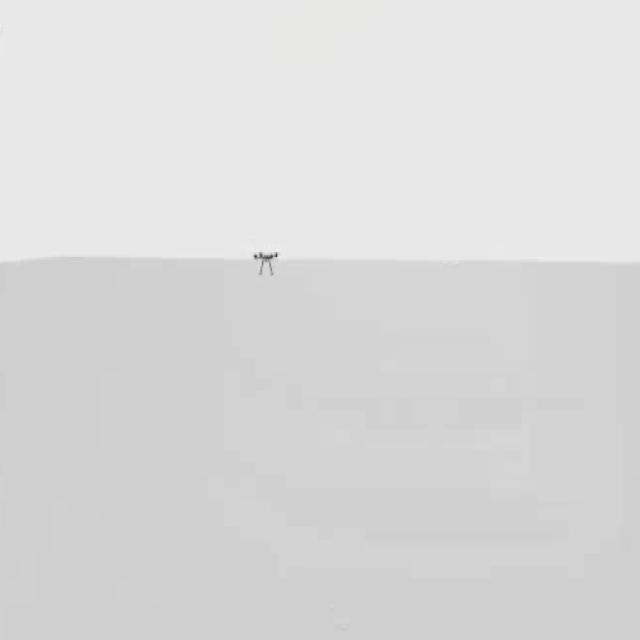drone: (254, 240, 284, 284)
